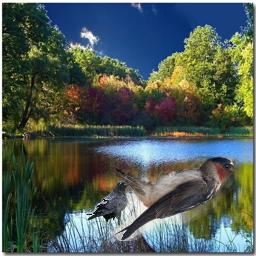Crow: (84, 181, 133, 228)
Swallow: (110, 156, 241, 241)
